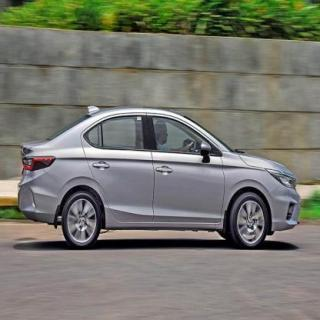Normal_vehicle: (18, 105, 299, 248)
